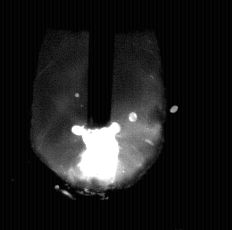arame: (88, 0, 113, 129)
poca: (31, 0, 164, 230)
